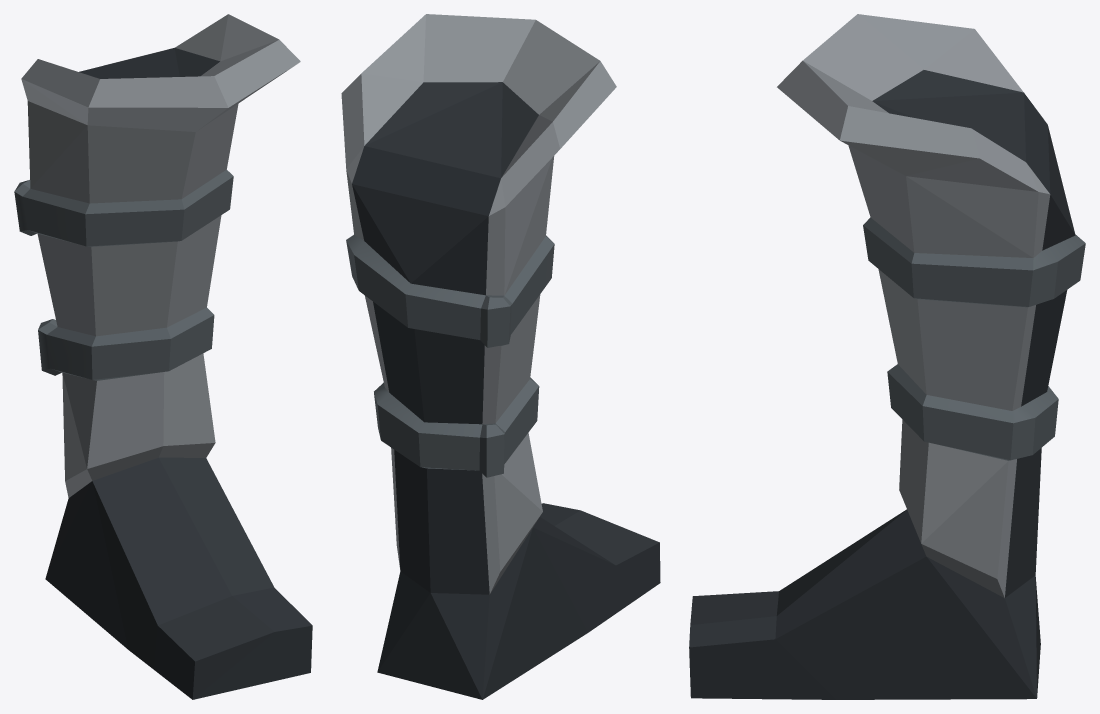
File: Chr_LegLeft_Male_08_Static.fbx
3 renders of one model, left to right at view 1: azimuth 30°, elevation 25°; view 2: azimuth 150°, elevation 25°; view 3: azimuth 270°, elevation 25°, orthographic. The views are drawn at different scales.
Visible parts, largest first — view 1: Chr_LegLeft_Male_08_Static; view 2: Chr_LegLeft_Male_08_Static; view 3: Chr_LegLeft_Male_08_Static.
Part boxes in pixels (x1,y1,x2,y2): Chr_LegLeft_Male_08_Static: (14, 14, 312, 699); Chr_LegLeft_Male_08_Static: (341, 14, 660, 699); Chr_LegLeft_Male_08_Static: (689, 14, 1085, 699).
Bounding box in the file's own units: 0.1718 × 0.4324 × 0.2532.
